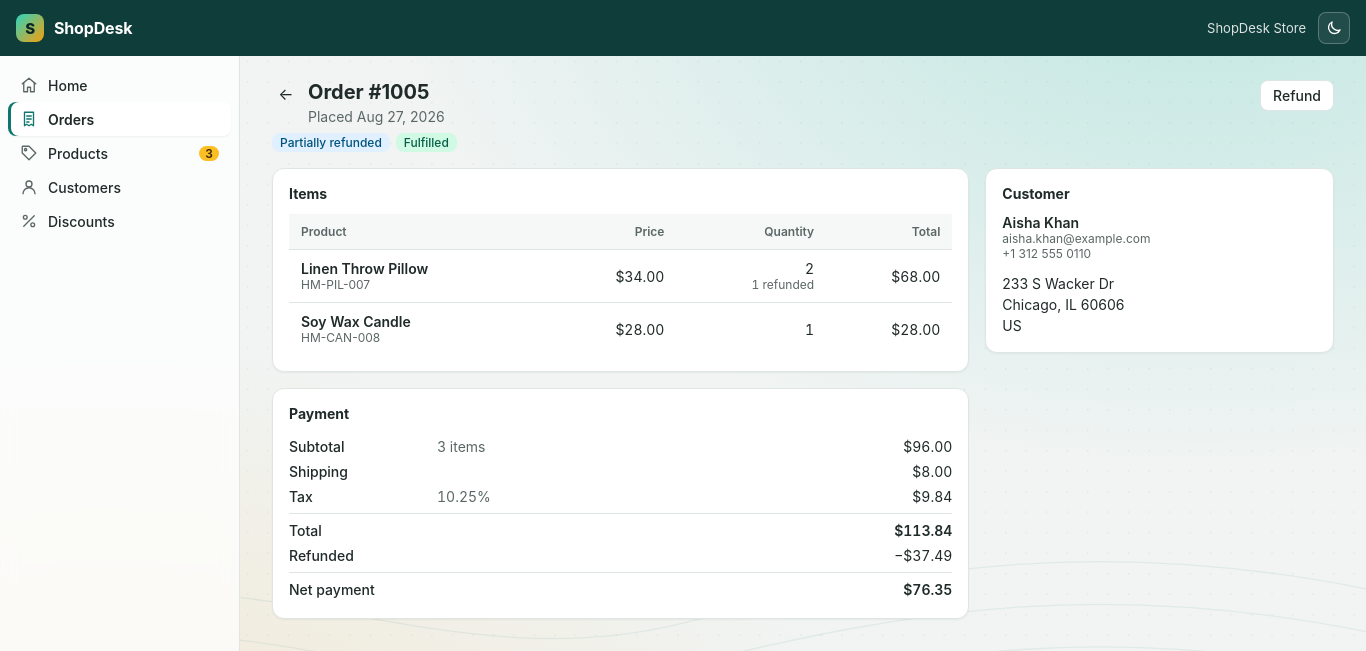
it: refunding an order › only offers the units that have not been refunded yet
Click the button "Refund" at (1297, 96), box [1260, 80, 1334, 111]
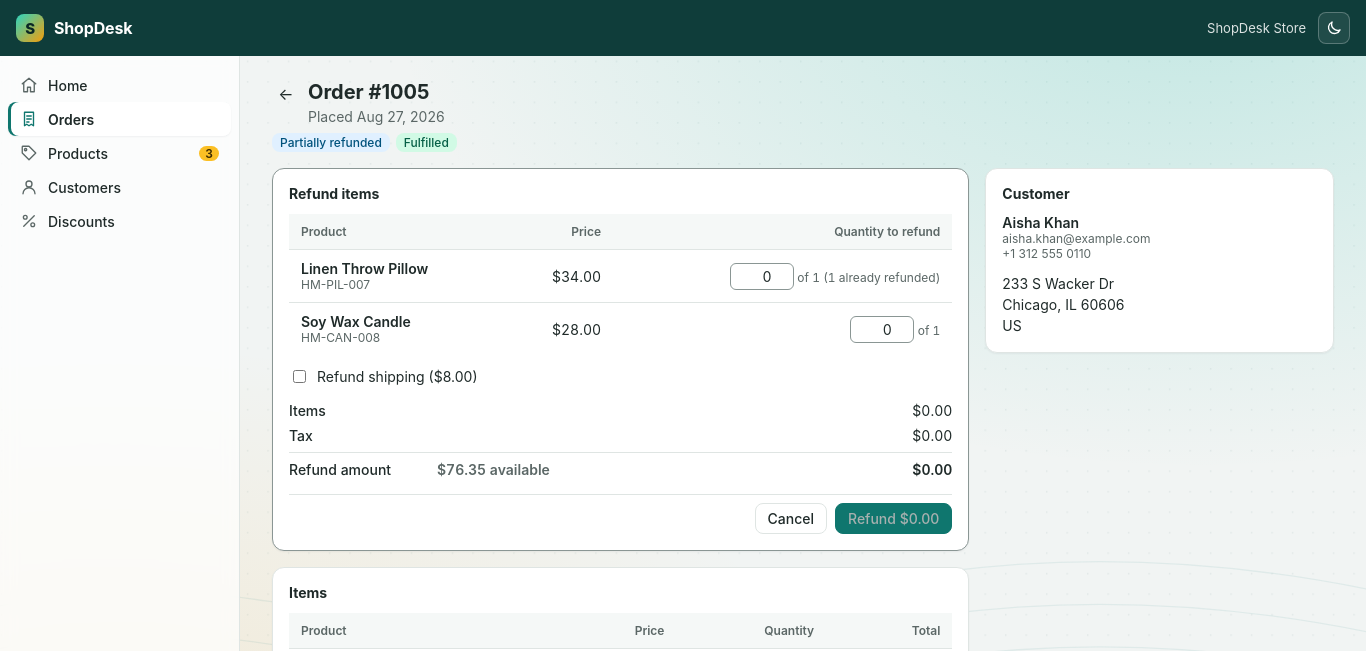
Check: the text "of 1 (1 already refunded)" is shown, box [797, 270, 940, 284]
Replace the text in the number field named "Quantity of Linen Throw Pillow to refund" with "2" at (762, 276), box [730, 262, 794, 290]
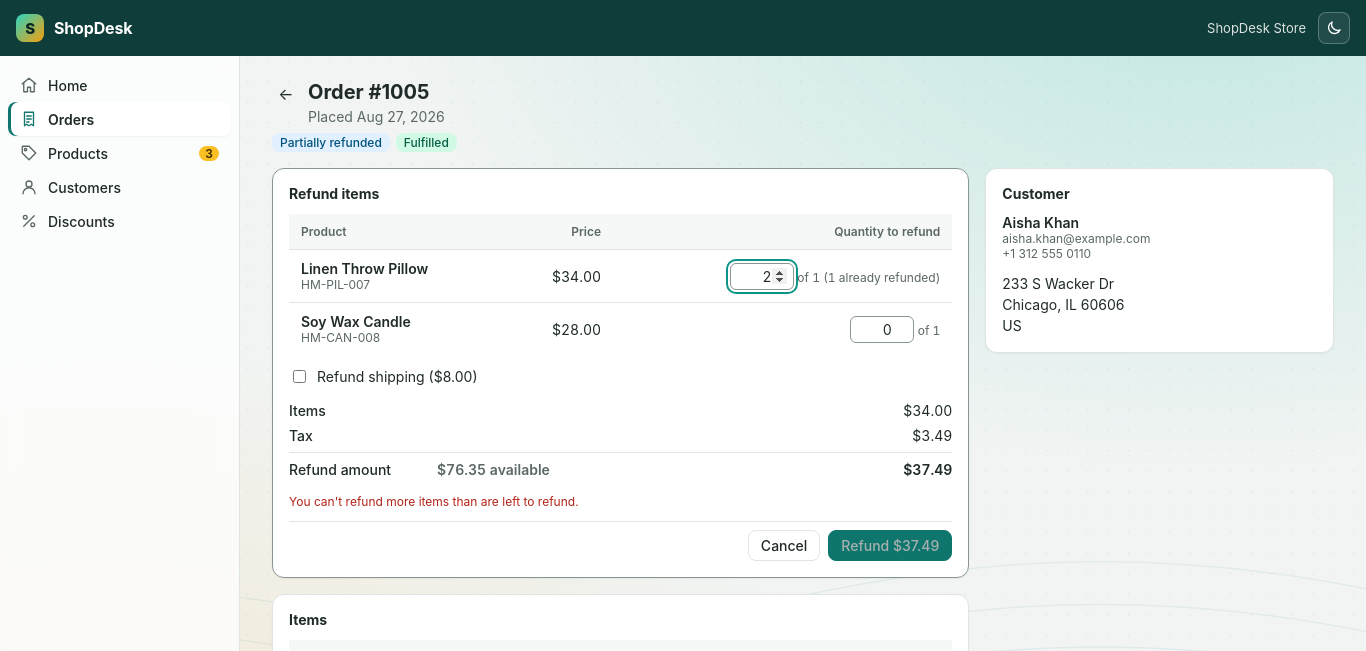
Check: the message reads "You can't refund more items than are left to refund.", box [289, 494, 579, 509]
